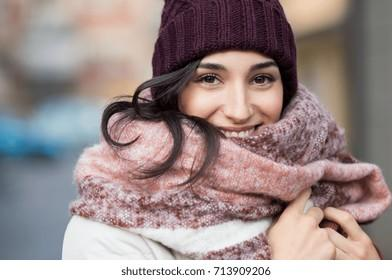cap: (119, 0, 307, 97)
scarf-kerchief: (53, 82, 392, 235)
